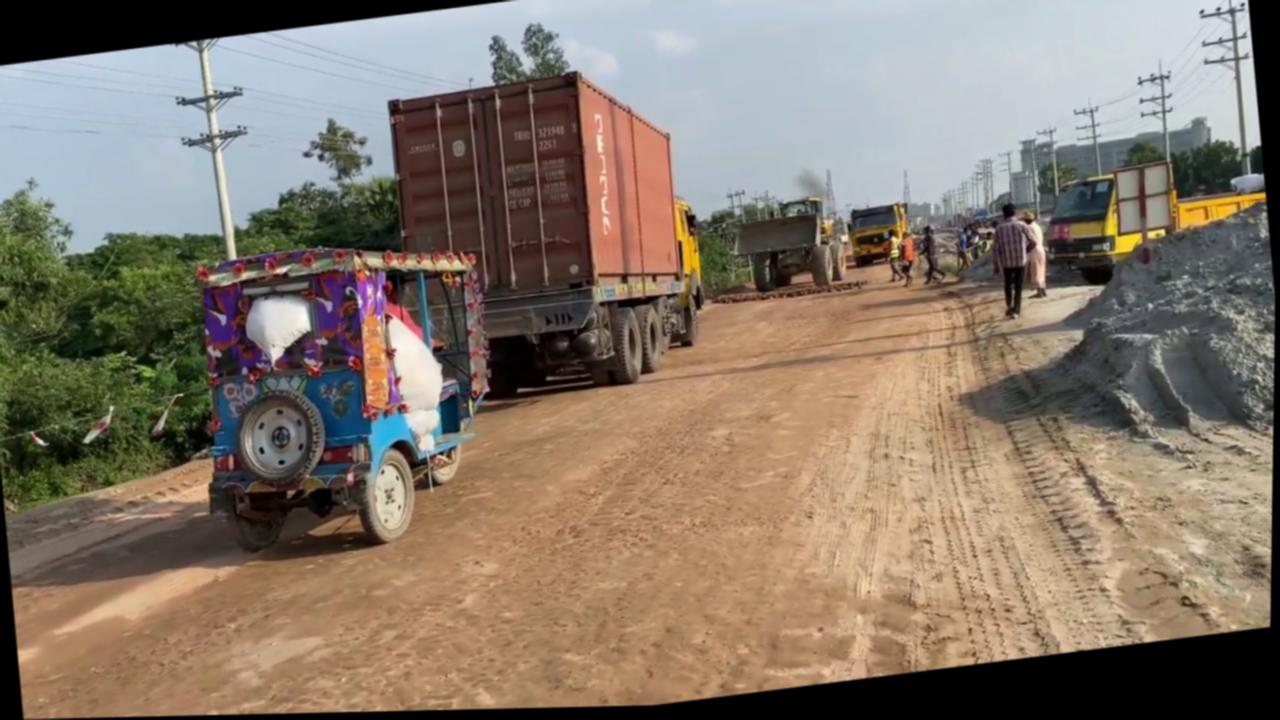Pole: (194, 40, 241, 263)
Tree: (380, 58, 714, 413), (183, 225, 511, 567), (1036, 152, 1273, 295), (726, 194, 852, 300), (846, 203, 913, 271)
